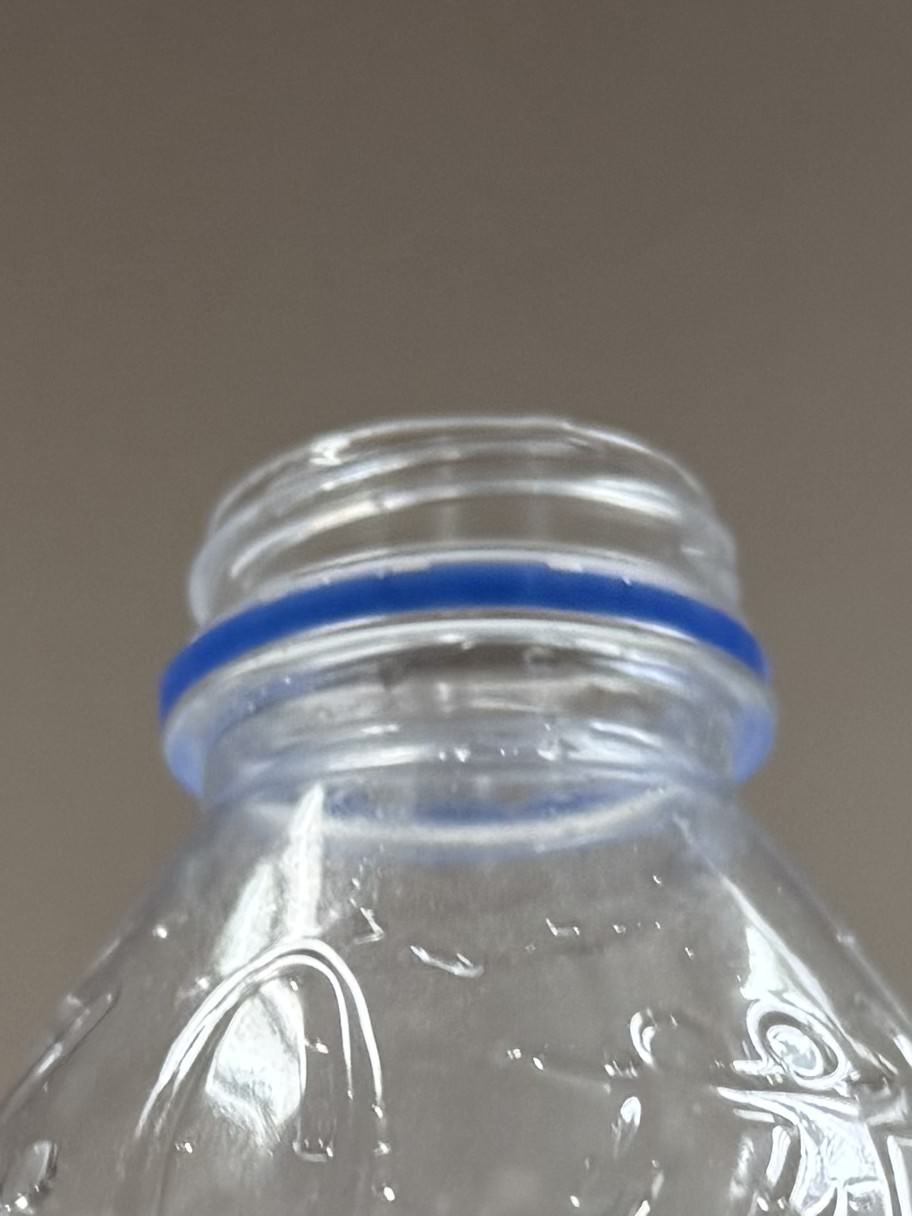no_cap: (153, 405, 784, 831)
